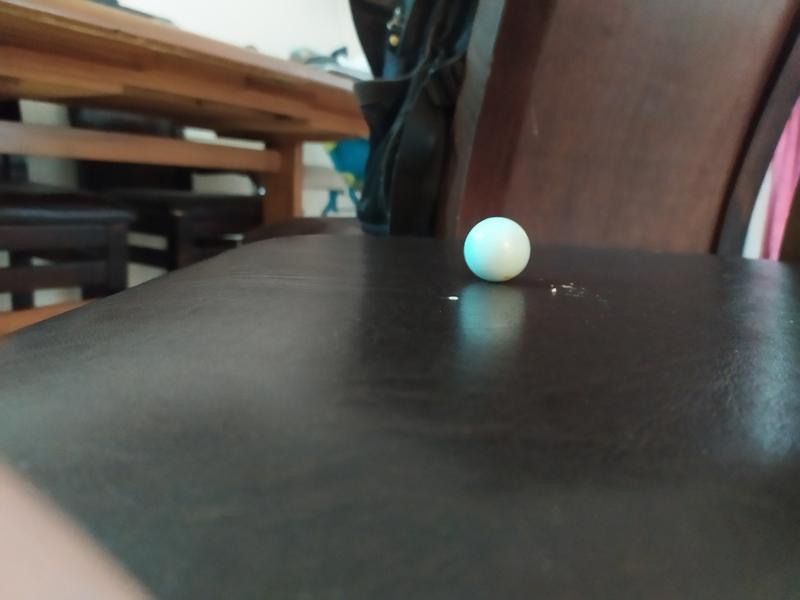Warning: (460, 215, 533, 284)
